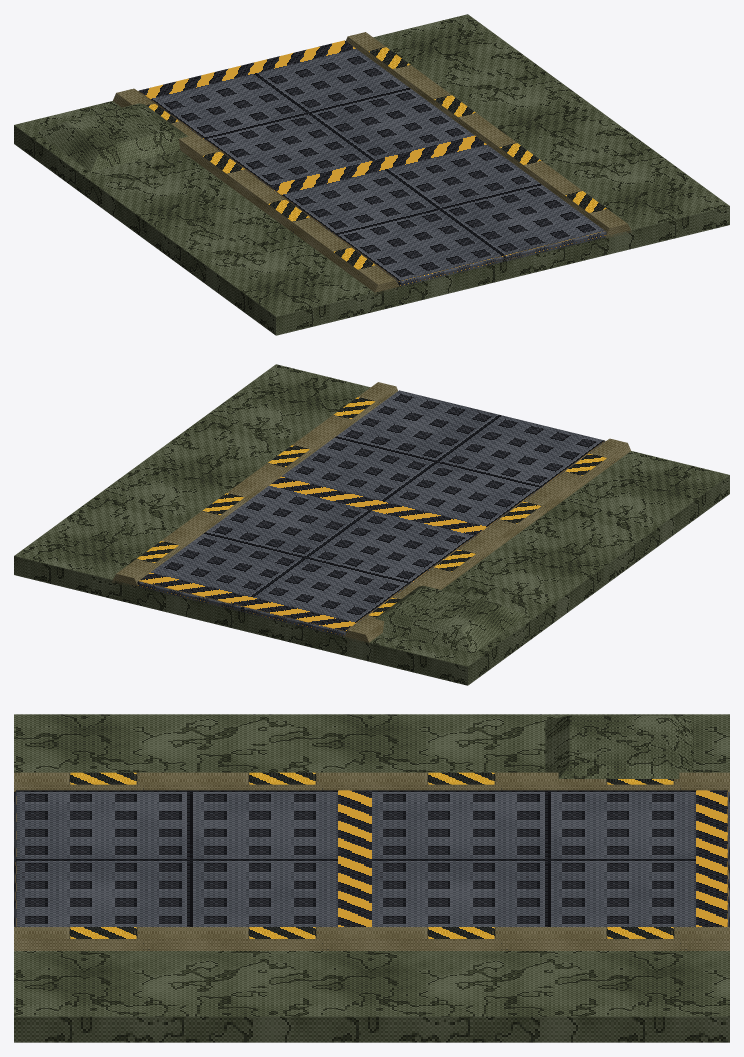
Rendered from ground_slab.glb.
The picture shows the model from 3 angles, top to bottom: view 1: azimuth 30°, elevation 25°; view 2: azimuth 150°, elevation 25°; view 3: azimuth 270°, elevation 25°; orthographic projection. The views are drawn at different scales.
Parts seen in each view (by area): view 1: ground_slab__mil_ground_wasteland, ground_slab__mil_metal_deck, ground_slab__mil_hazard_trim; view 2: ground_slab__mil_ground_wasteland, ground_slab__mil_metal_deck, ground_slab__mil_hazard_trim; view 3: ground_slab__mil_ground_wasteland, ground_slab__mil_metal_deck, ground_slab__mil_hazard_trim.
Part boxes in pixels (x1,y1,x2,y2): ground_slab__mil_ground_wasteland: (14,14,729,335); ground_slab__mil_metal_deck: (138,40,606,286); ground_slab__mil_hazard_trim: (113,32,631,294); ground_slab__mil_ground_wasteland: (14,364,729,685); ground_slab__mil_metal_deck: (137,390,605,636); ground_slab__mil_hazard_trim: (112,382,630,644); ground_slab__mil_ground_wasteland: (14,714,729,1042); ground_slab__mil_metal_deck: (14,790,729,926); ground_slab__mil_hazard_trim: (14,772,729,950).
Bounding box in the file's own units: 4 × 0.27 × 4.
Materials: 3 (3 with a texture image).
